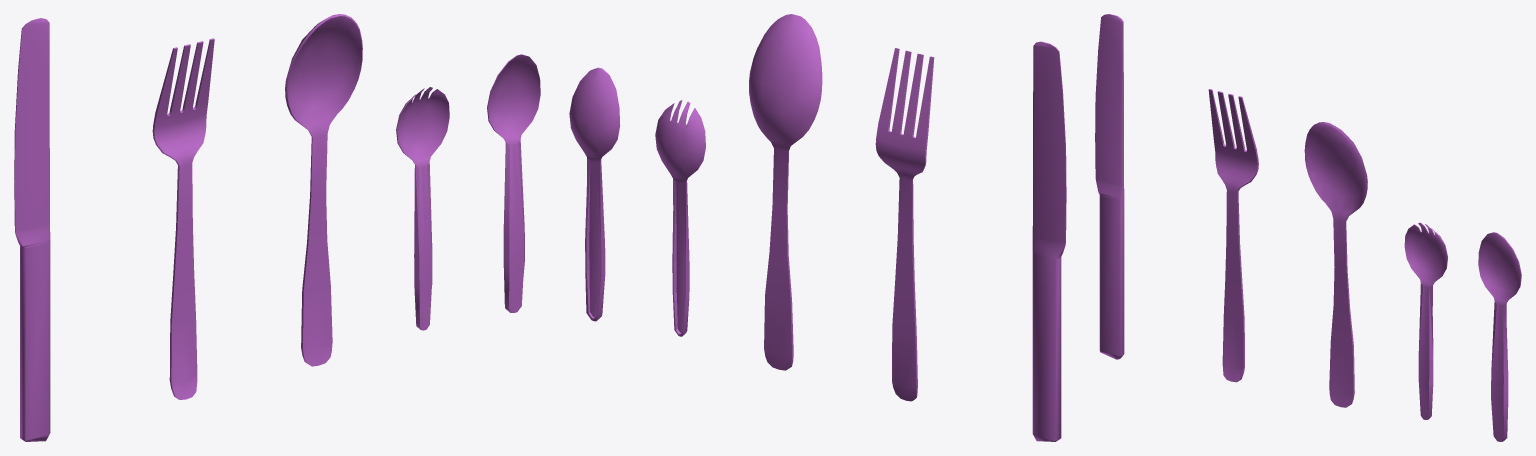
The model's file is Cutlery FBX.FBX.
3 views of the same model, side by side, from view 1: azimuth 30°, elevation 25°; view 2: azimuth 150°, elevation 25°; view 3: azimuth 330°, elevation 25° (orthographic). The views are drawn at different scales.
Parts seen in each view (by area): view 1: Knife, Table Sppon, Table Fork, Plastic Spoon, Plastic Spork; view 2: Table Sppon, Knife, Table Fork, Plastic Spoon, Plastic Spork; view 3: Knife, Table Sppon, Table Fork, Plastic Spoon, Plastic Spork.
Boxes of the visible parts, bbox=[...] form: Knife: bbox=[14, 18, 50, 441]; Table Sppon: bbox=[285, 14, 362, 366]; Table Fork: bbox=[152, 38, 214, 399]; Plastic Spoon: bbox=[487, 54, 540, 312]; Plastic Spork: bbox=[396, 87, 449, 330]; Table Sppon: bbox=[749, 14, 822, 370]; Knife: bbox=[1032, 41, 1066, 441]; Table Fork: bbox=[875, 48, 934, 401]; Plastic Spoon: bbox=[569, 67, 620, 321]; Plastic Spork: bbox=[655, 100, 705, 336]; Knife: bbox=[1095, 14, 1124, 359]; Table Sppon: bbox=[1304, 122, 1367, 407]; Table Fork: bbox=[1208, 89, 1258, 382]; Plastic Spoon: bbox=[1478, 232, 1521, 441]; Plastic Spork: bbox=[1404, 222, 1447, 419].
Bounding box in the file's own units: 11.62 × 8.89 × 0.9284.
